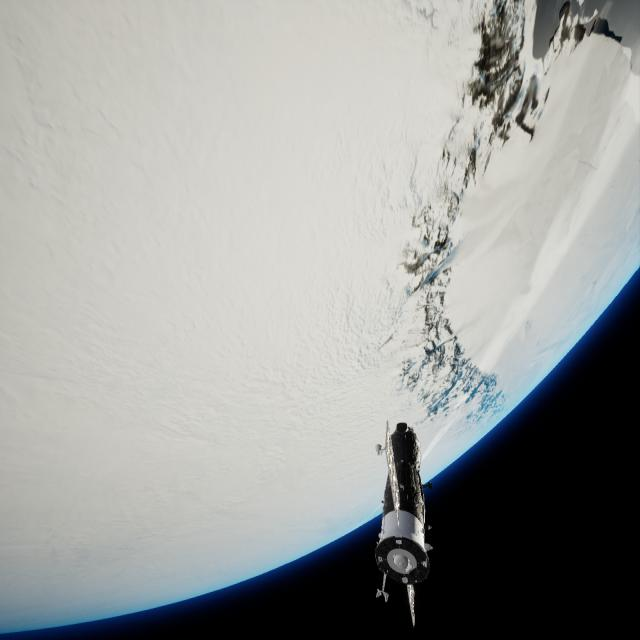Satellites revolving around earth: (1, 1, 638, 633), (372, 419, 433, 627)
